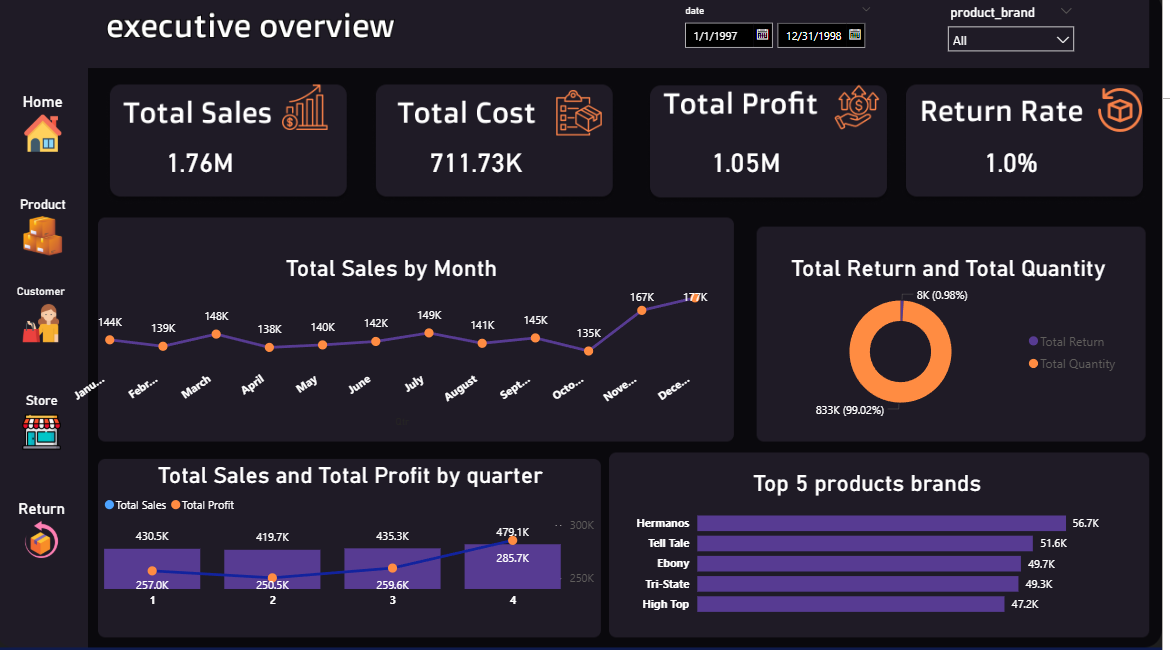

The page's visual inventory and layout, read from the dashboard file:
{"tool":"powerbi","page":{"name":"home","canvas":[1280,720],"ordinal":1},"visuals":[{"type":"card","fields":{"Values":["Dax.Total Sales"]},"box":[144.1,150.9,159.2,64.5],"z":0},{"type":"card","fields":{"Values":["Dax.Total Cost"]},"box":[447.3,150.9,159.2,64.5],"z":2000},{"type":"card","fields":{"Values":["Dax.Return rate"]},"box":[1034.7,150.9,159.2,64.5],"z":3000},{"type":"card","fields":{"Values":["Dax.Total Profit"]},"box":[743.7,150.9,159.2,64.5],"z":4000},{"type":"lineChart","fields":{"Category":["dim_calendar.date.Variation.Date Hierarchy.Year","dim_calendar.date.Variation.Date Hierarchy.Quarter","dim_calendar.date.Variation.Date Hierarchy.Month","dim_calendar.date.Variation.Date Hierarchy.Day"],"Y":["Dax.Total Sales"]},"box":[111.1,240.1,712.2,242.9],"z":5000},{"type":"barChart","title":"Top 5 products brands","fields":{"Category":["dim_product.product_brand"],"Y":["Dax.Total Sales"]},"box":[697.1,522.8,518.7,170.2],"z":6000},{"type":"lineClusteredColumnComboChart","fields":{"Category":["dim_calendar.date Hierarchy.year","dim_calendar.date Hierarchy.quarter","dim_calendar.date Hierarchy.month_name","dim_calendar.date Hierarchy.week_of_year","dim_calendar.date Hierarchy.day_name"],"Y":["Dax.Total Sales"],"Y2":["Dax.Total Profit"]},"box":[113.9,513.2,550.3,170.2],"z":7000},{"type":"donutChart","fields":{"Y":["Dax.Total Return","Dax.Total Quantity"]},"box":[843.9,247,408.9,230.5],"z":8000},{"type":"image","title":"Home","box":[1.4,108.4,100.2,64.5],"z":9000},{"type":"image","title":"Product","box":[1.4,222.3,100.2,64.5],"z":10000},{"type":"image","title":"Customer","box":[0,319.7,98.8,64.5],"z":11000},{"type":"image","title":"Store","box":[0,437.7,100.2,64.5],"z":12000},{"type":"image","title":"Return","box":[0,554.4,100.2,64.5],"z":13000},{"type":"actionButton","box":[783.5,20.6,100.2,39.8],"z":14000},{"type":"slicer","fields":{"Values":["dim_calendar.date"]},"box":[743.7,6.9,229.2,67.2],"z":15000},{"type":"slicer","fields":{"Values":["dim_product.product_brand"]},"box":[1034.7,6.9,159.2,67.2],"z":16000}]}

Visuals, with their boxes in screenshot pixels (x1, y1, x2, y2), scaled from the page's 1280x720 canvas onto the 1170x650 screenshot:
card - Dax.Total Sales: x1=132, y1=136, x2=277, y2=194
card - Dax.Total Cost: x1=409, y1=136, x2=554, y2=194
card - Dax.Return rate: x1=946, y1=136, x2=1091, y2=194
card - Dax.Total Profit: x1=680, y1=136, x2=825, y2=194
lineChart - dim_calendar.date.Variation.Date Hierarchy.Year x dim_calendar.date.Variation.Date Hierarchy.Quarter: x1=102, y1=217, x2=753, y2=436
"Top 5 products brands" barChart: x1=637, y1=472, x2=1111, y2=626
lineClusteredColumnComboChart - dim_calendar.date Hierarchy.year x dim_calendar.date Hierarchy.quarter: x1=104, y1=463, x2=607, y2=617
donutChart - Dax.Total Return x Dax.Total Quantity: x1=771, y1=223, x2=1145, y2=431
"Home" image: x1=1, y1=98, x2=93, y2=156
"Product" image: x1=1, y1=201, x2=93, y2=259
"Customer" image: x1=0, y1=289, x2=90, y2=347
"Store" image: x1=0, y1=395, x2=92, y2=453
"Return" image: x1=0, y1=500, x2=92, y2=559
actionButton: x1=716, y1=19, x2=808, y2=55
slicer - dim_calendar.date: x1=680, y1=6, x2=889, y2=67
slicer - dim_product.product_brand: x1=946, y1=6, x2=1091, y2=67
